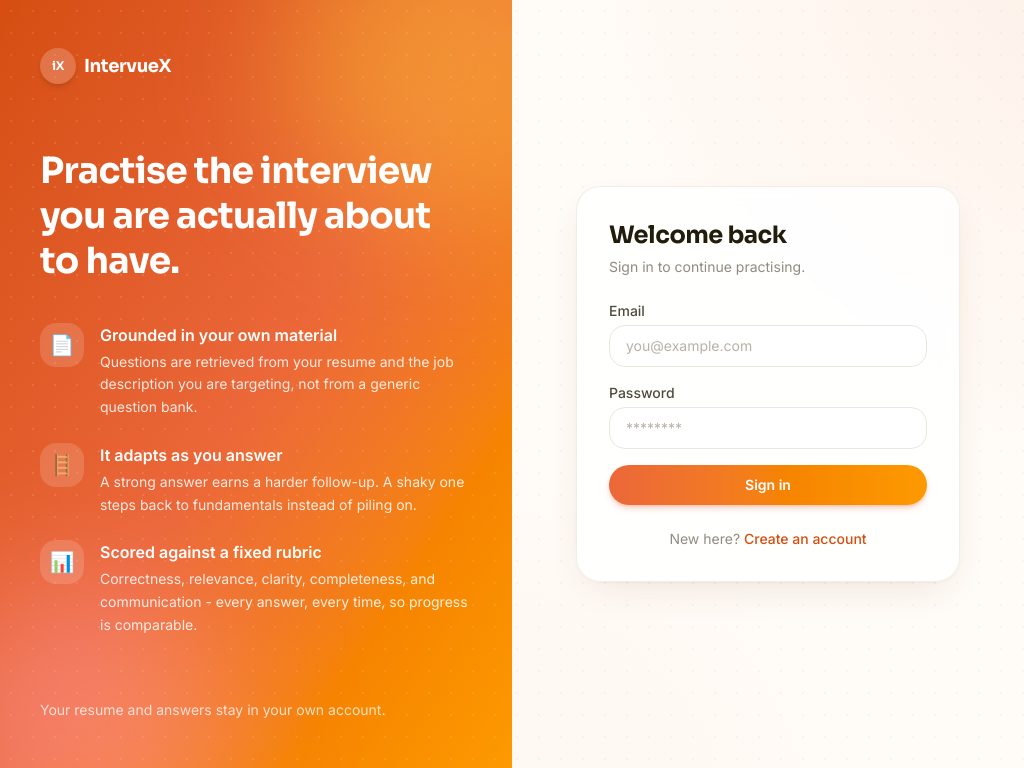
Test: Login › shows the server message when the credentials are wrong
The image size is (1024, 768).
In the field labelled "Email": (768, 346) [609,325,927,367], type "ada@example.com"
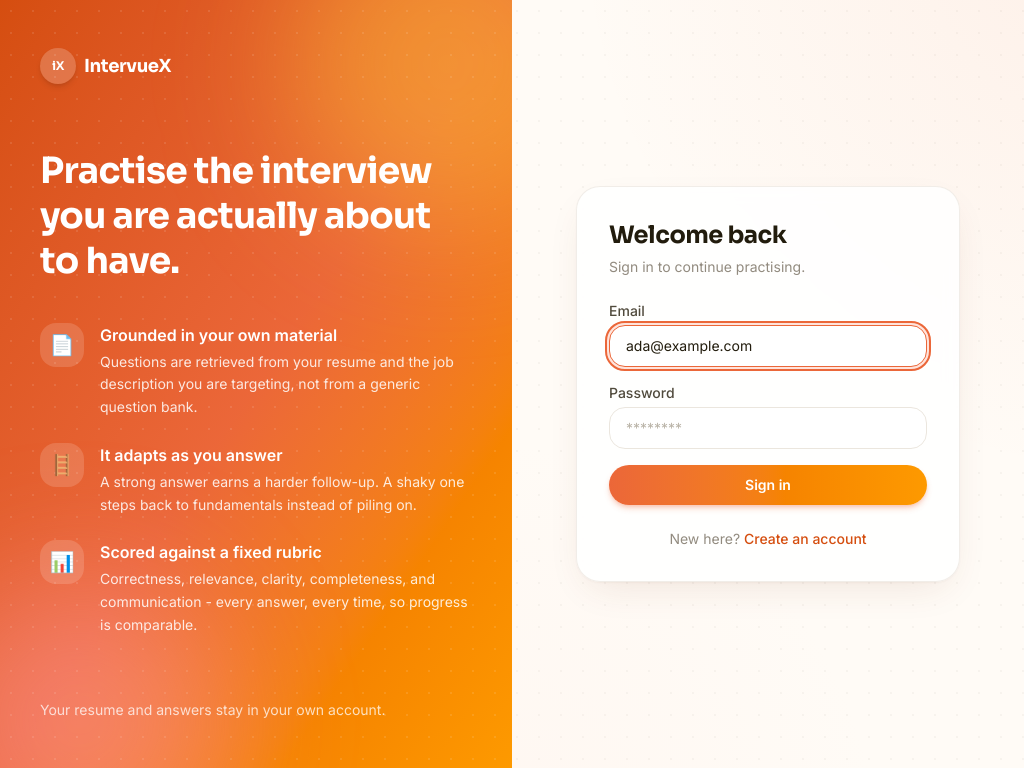
In the password field labelled "Password": (768, 428) [609,407,927,449], type "wrong"
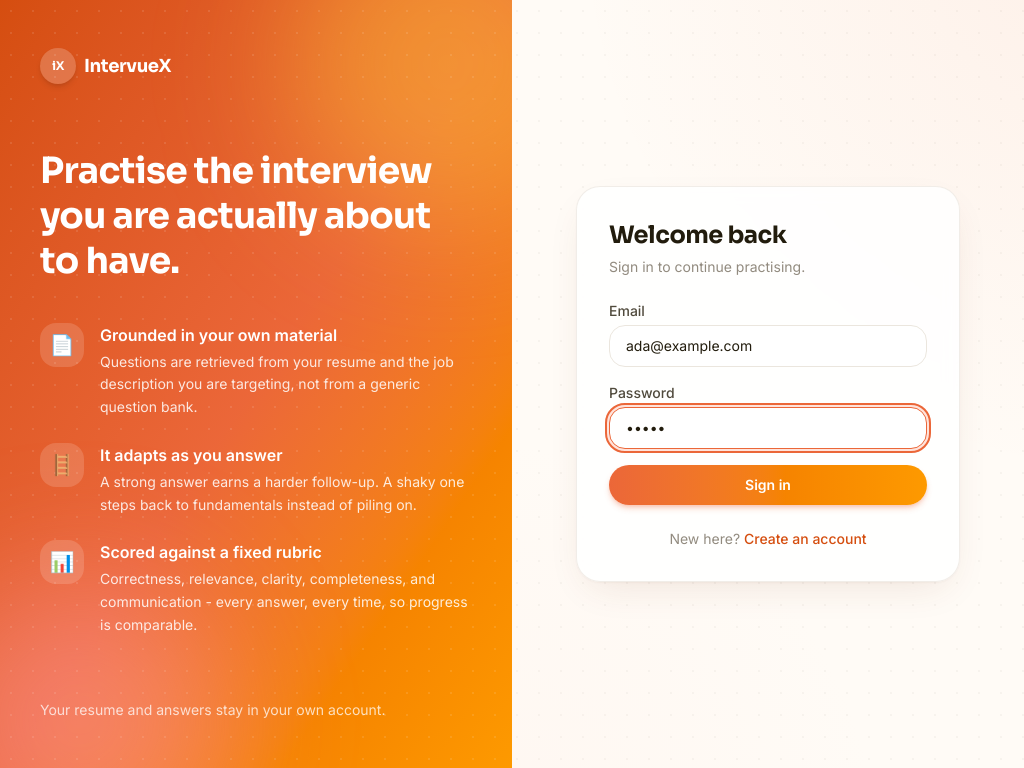
Click the button "Sign in": click(768, 485) [609,465,927,505]
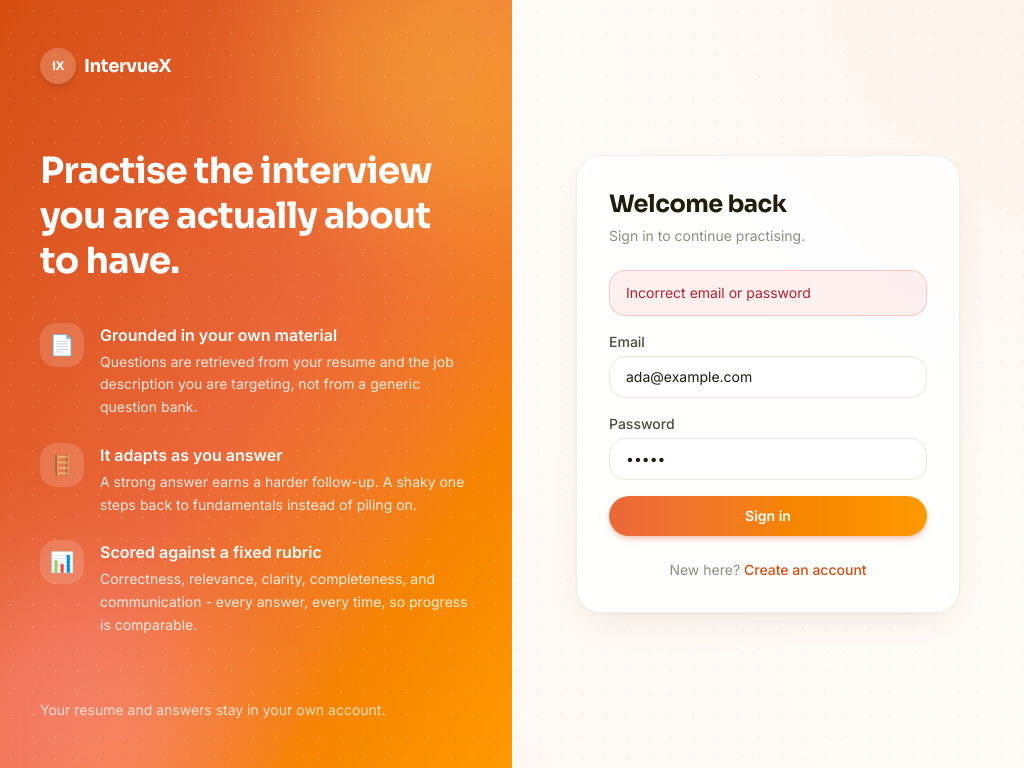
Expected: the message reads "Incorrect email or password", [626,284,811,301]
